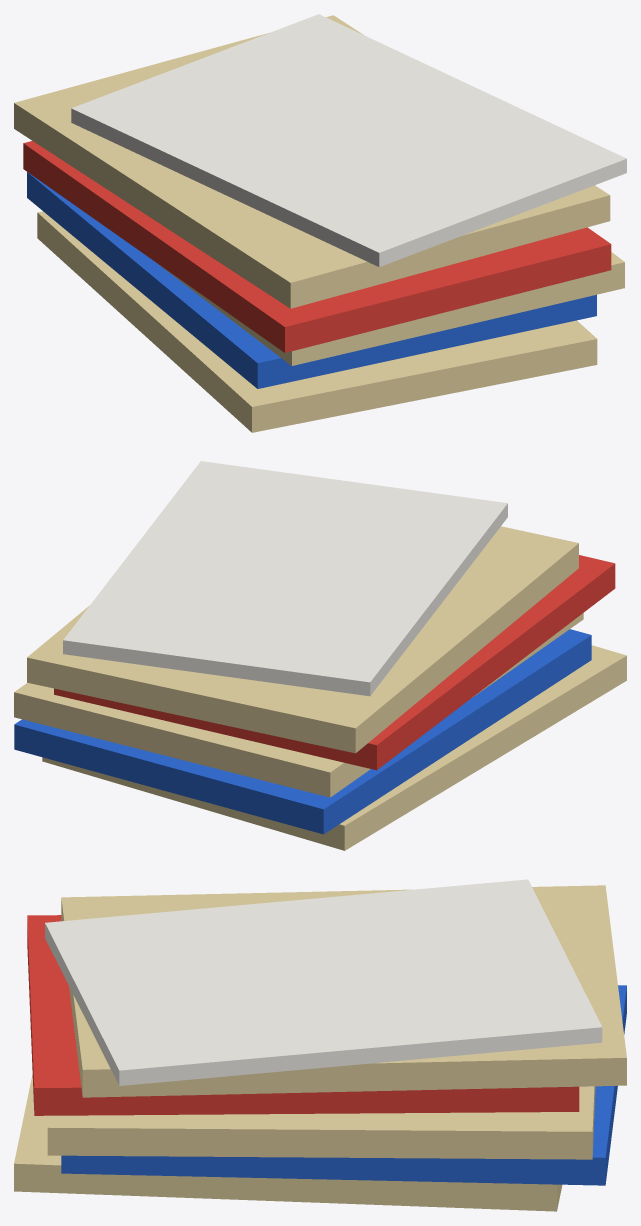
File: FolderStack.fbx
3 views of the same model, one above another, from view 1: azimuth 30°, elevation 25°; view 2: azimuth 150°, elevation 25°; view 3: azimuth 270°, elevation 25° (orthographic). The views are drawn at different scales.
Visible parts, largest first — view 1: FolderStackBody; view 2: FolderStackBody; view 3: FolderStackBody.
Boxes of the visible parts, x1,y1,x2,y2 form: FolderStackBody: (14,14,626,432); FolderStackBody: (14,461,626,850); FolderStackBody: (14,879,626,1211).
Size of the model in its own units: 0.2963 by 0.105 by 0.3599.
